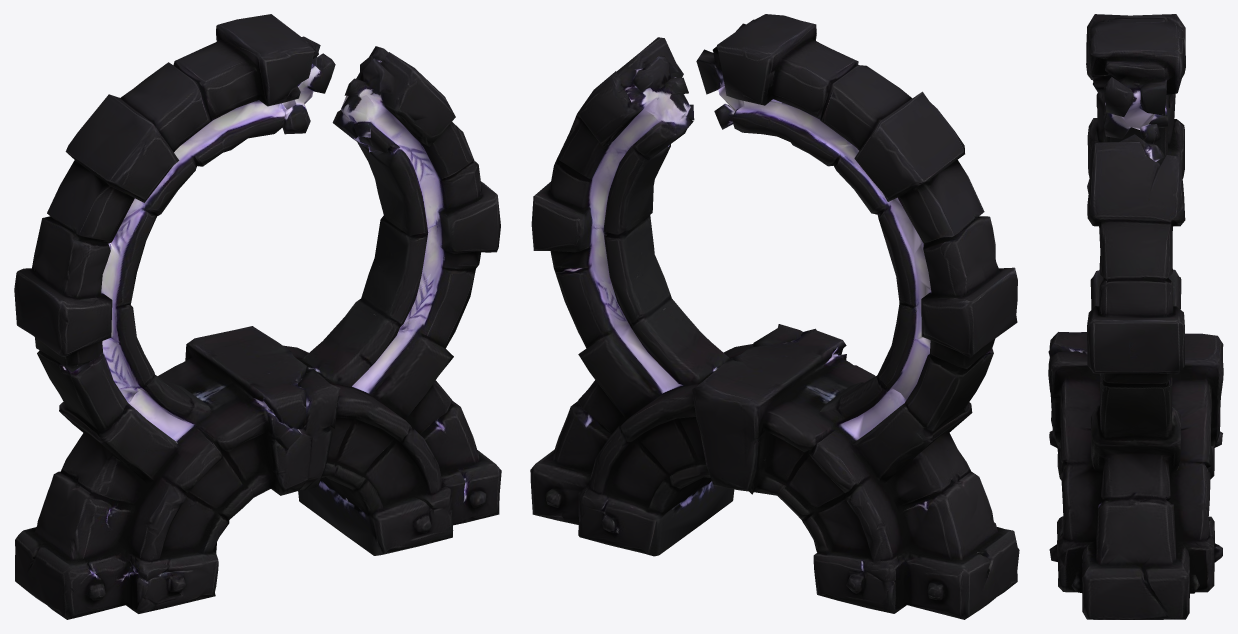
File: terminus-broken-ring-arch.glb
3 renders of one model, left to right at view 1: azimuth 30°, elevation 25°; view 2: azimuth 150°, elevation 25°; view 3: azimuth 270°, elevation 25°, orthographic. The views are drawn at different scales.
Visible parts, largest first — view 1: tripo_node_935220d5-850f-4e81-83a2-796eec0a4c7e; view 2: tripo_node_935220d5-850f-4e81-83a2-796eec0a4c7e; view 3: tripo_node_935220d5-850f-4e81-83a2-796eec0a4c7e.
Boxes of the visible parts, x1,y1,x2,y2 form: tripo_node_935220d5-850f-4e81-83a2-796eec0a4c7e: [14, 14, 501, 619]; tripo_node_935220d5-850f-4e81-83a2-796eec0a4c7e: [530, 14, 1019, 619]; tripo_node_935220d5-850f-4e81-83a2-796eec0a4c7e: [1048, 14, 1223, 619].
Size of the model in its own units: 0.8808 by 0.9789 by 0.3181.
Materials: 1 (1 with a texture image).
